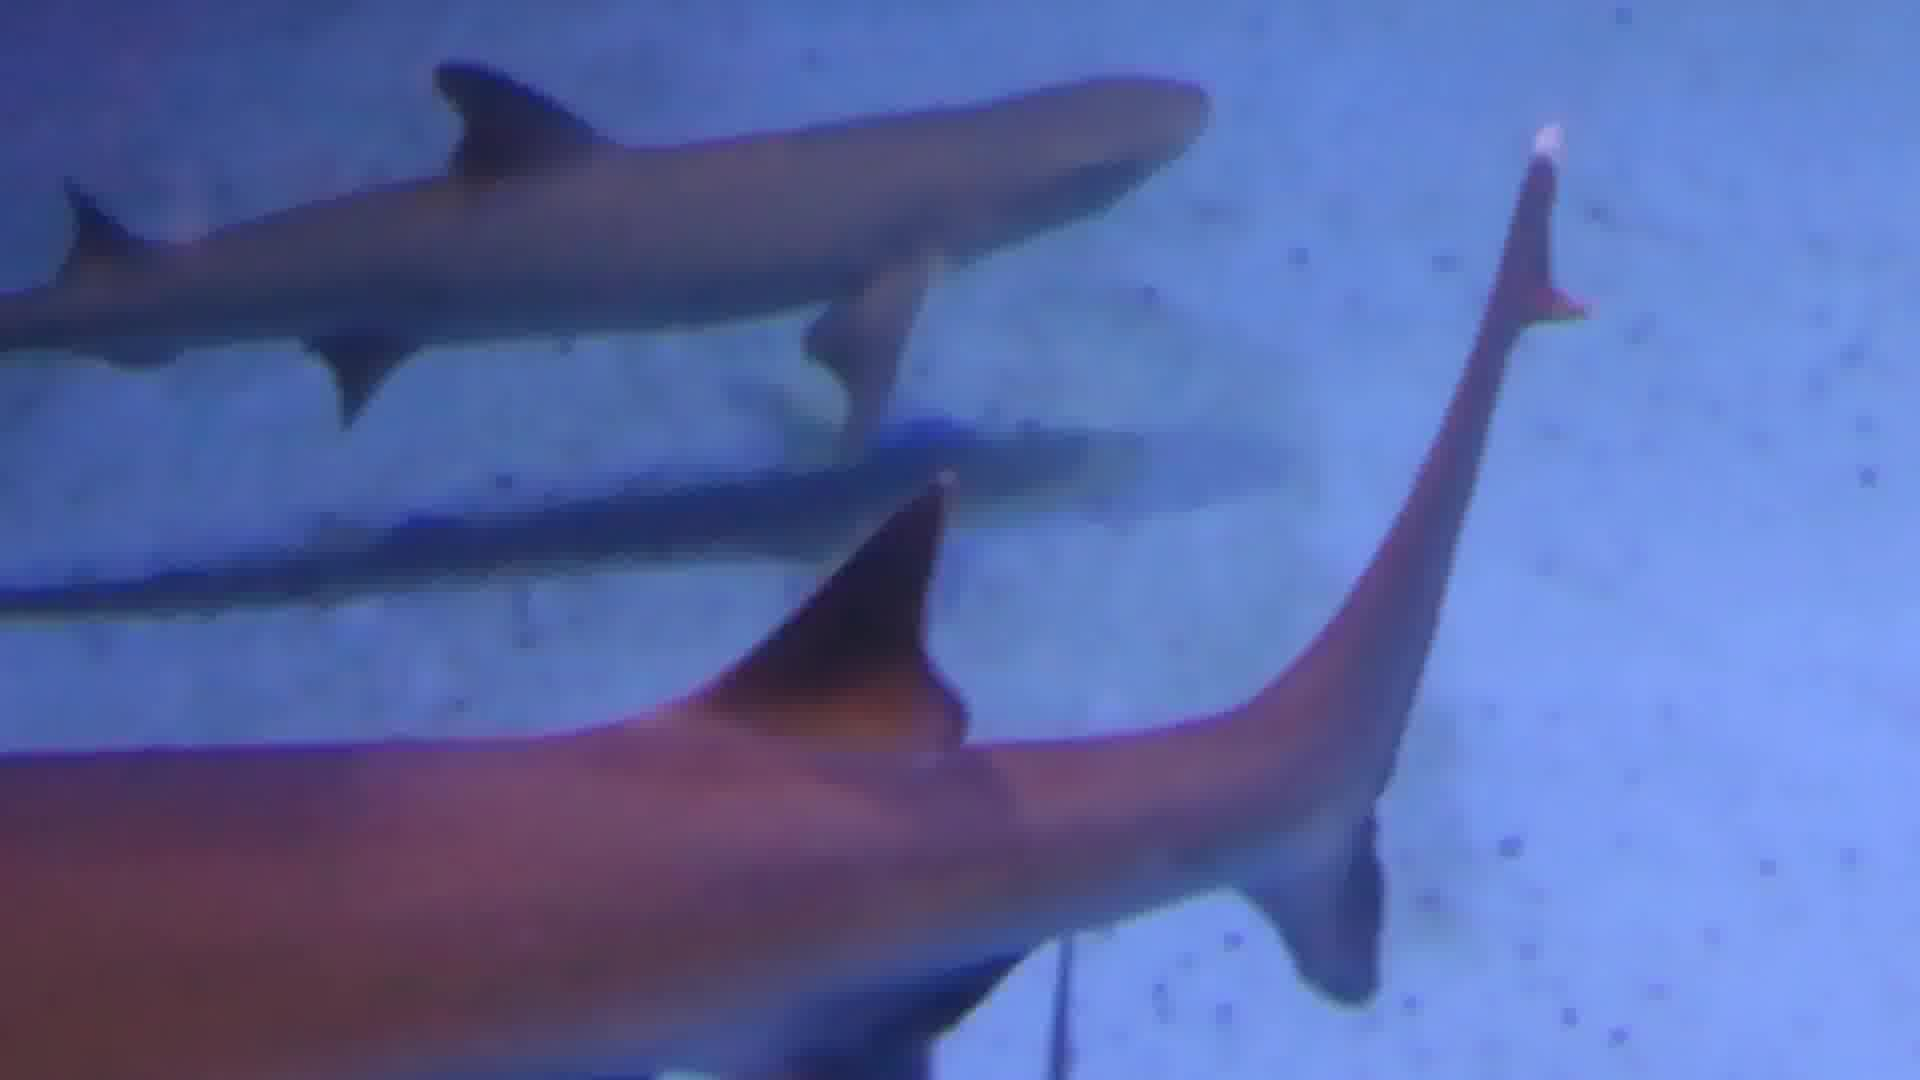Triaenodon obesus: (3, 349, 1815, 1080), (1, 1, 1232, 353)
